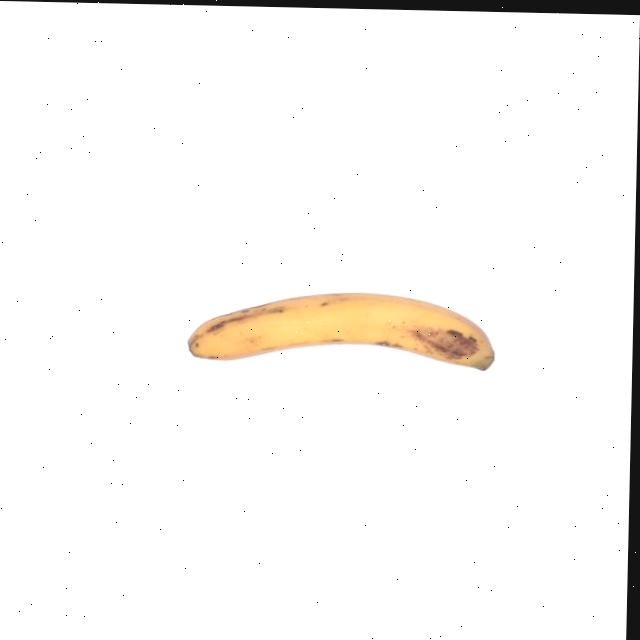banana: (182, 288, 499, 378)
